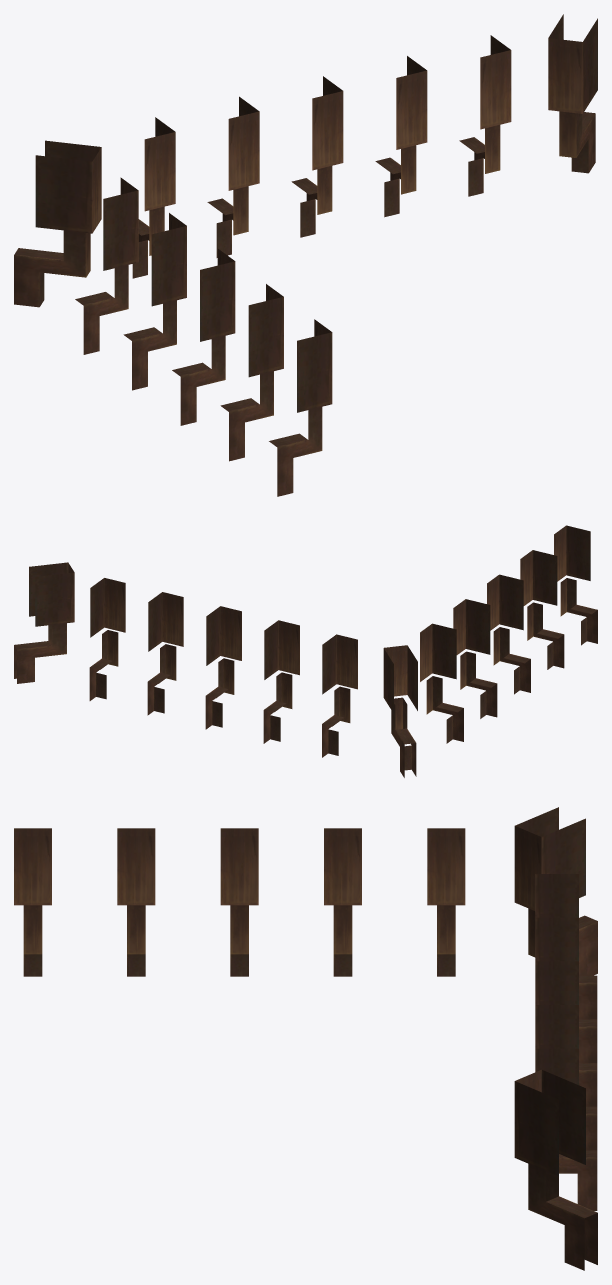
File: M11_T_qiangzhu002.FBX
3 views of the same model, one above another, from view 1: azimuth 30°, elevation 25°; view 2: azimuth 150°, elevation 25°; view 3: azimuth 270°, elevation 25° (orthographic). The views are drawn at different scales.
Parts seen in each view (by area): view 1: M11_T_qiangzhu002; view 2: M11_T_qiangzhu002; view 3: M11_T_qiangzhu002.
Part boxes in pixels (x1,y1,x2,y2): M11_T_qiangzhu002: (14,14,597,496); M11_T_qiangzhu002: (14,525,597,777); M11_T_qiangzhu002: (14,807,597,1270).
Size of the model in its own units: 1394 by 357 by 1137.
